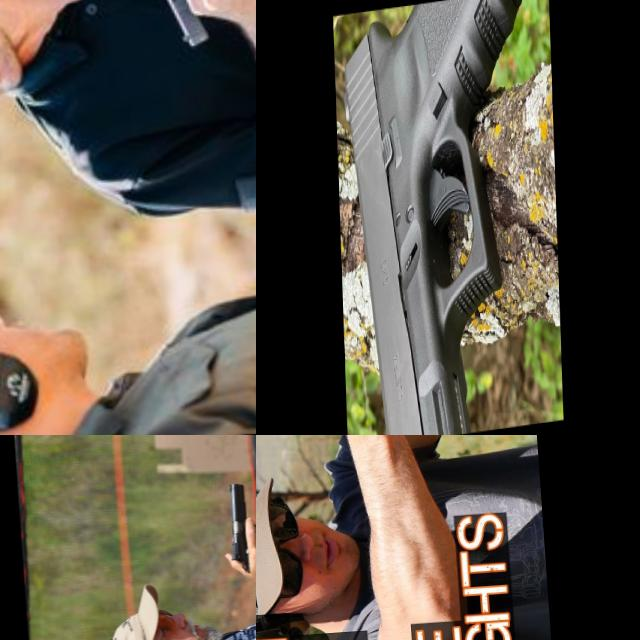handgun: (338, 0, 562, 435), (100, 0, 256, 105), (272, 435, 417, 475), (223, 477, 256, 574)
